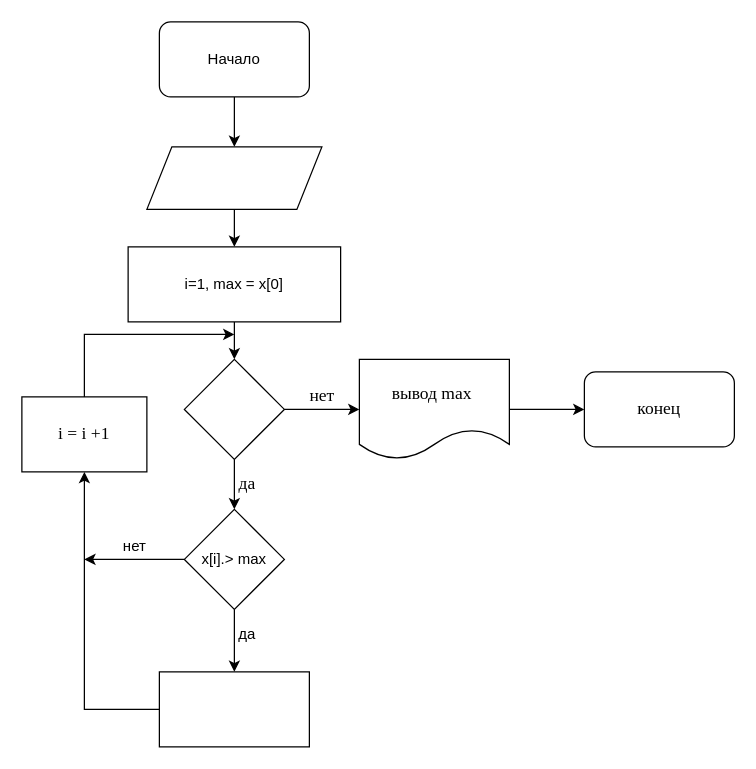
Some shapes in this 756 by 769 pixel diagram are drawn without their labels. The shapes that lost their labels are listed below. From the top down, each one's centre as x and y in pixels, then its label:
the point at 234,177: X[n]
the point at 233,408: i<n
the point at 233,709: max = x[i]
